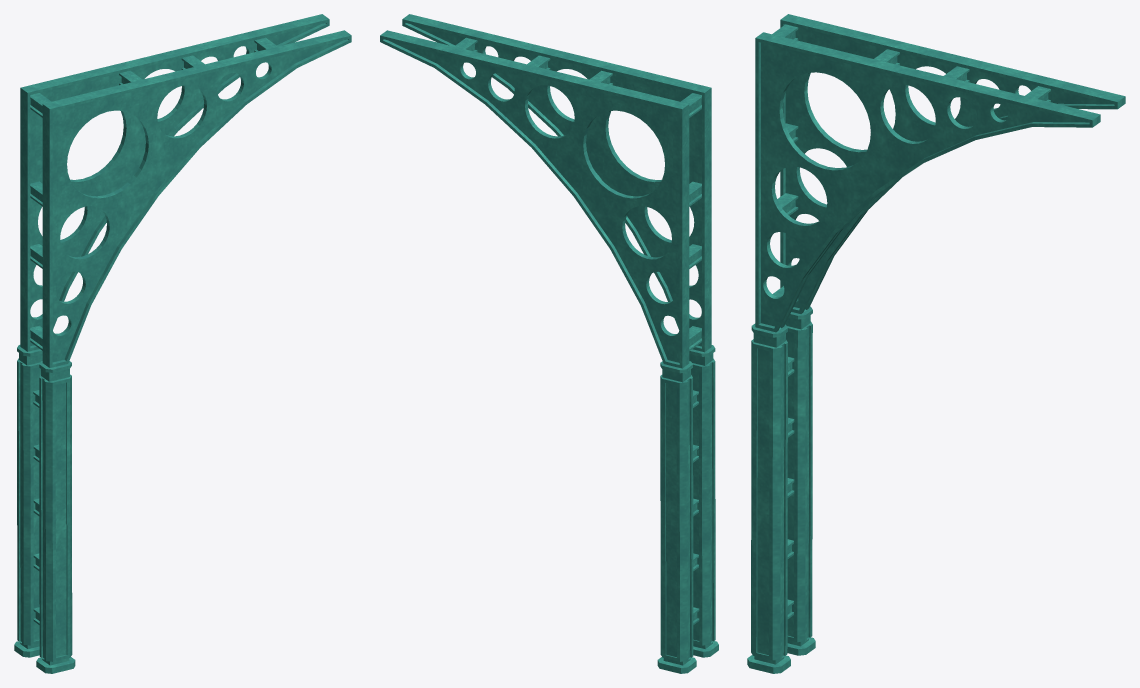
The model's file is Roof detail.glb.
The picture shows the model from 3 angles, left to right: view 1: azimuth 30°, elevation 25°; view 2: azimuth 150°, elevation 25°; view 3: azimuth 330°, elevation 25°; orthographic projection. The views are drawn at different scales.
Parts seen in each view (by area): view 1: Cube, Cube.001, Cube.006; view 2: Cube.001, Cube, Cube.006; view 3: Cube, Cube.001, Cube.006.
Part boxes in pixels (<box>): Cube: <box>36,30,351,673</box>; Cube.001: <box>14,14,329,657</box>; Cube.006: <box>30,37,277,624</box>; Cube.001: <box>380,30,696,673</box>; Cube: <box>402,14,718,657</box>; Cube.006: <box>454,37,701,624</box>; Cube: <box>747,32,1100,673</box>; Cube.001: <box>780,14,1125,655</box>; Cube.006: <box>772,24,1050,618</box>.
Bounding box in the file's own units: 23.7 × 41.31 × 4.81.
1 material, 1 textured.
